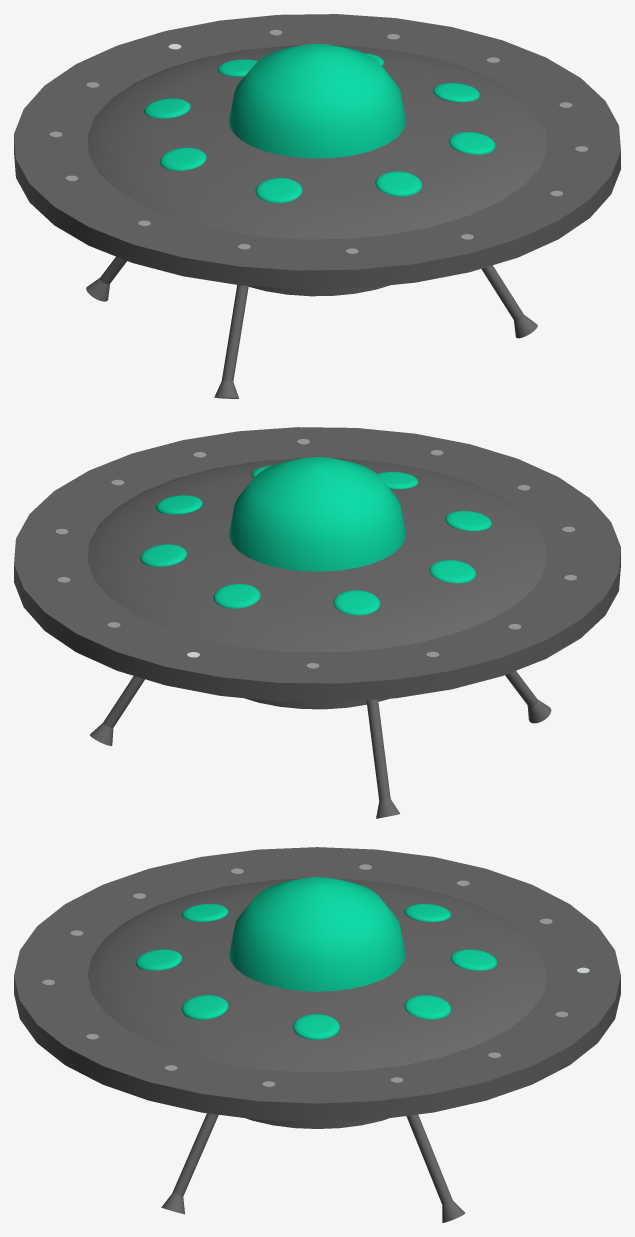
Rendered from UFO.fbx.
3 renders of one model, top to bottom at view 1: azimuth 30°, elevation 25°; view 2: azimuth 150°, elevation 25°; view 3: azimuth 270°, elevation 25°, orthographic.
Parts seen in each view (by area): view 1: ufo; view 2: ufo; view 3: ufo.
Part boxes in pixels (left/top/right/bottom): ufo: left=14, top=14, right=620, bottom=398; ufo: left=14, top=427, right=620, bottom=818; ufo: left=14, top=847, right=620, bottom=1222.
Size of the model in its own units: 73.67 by 35.62 by 73.67.
1 material, 1 textured.
